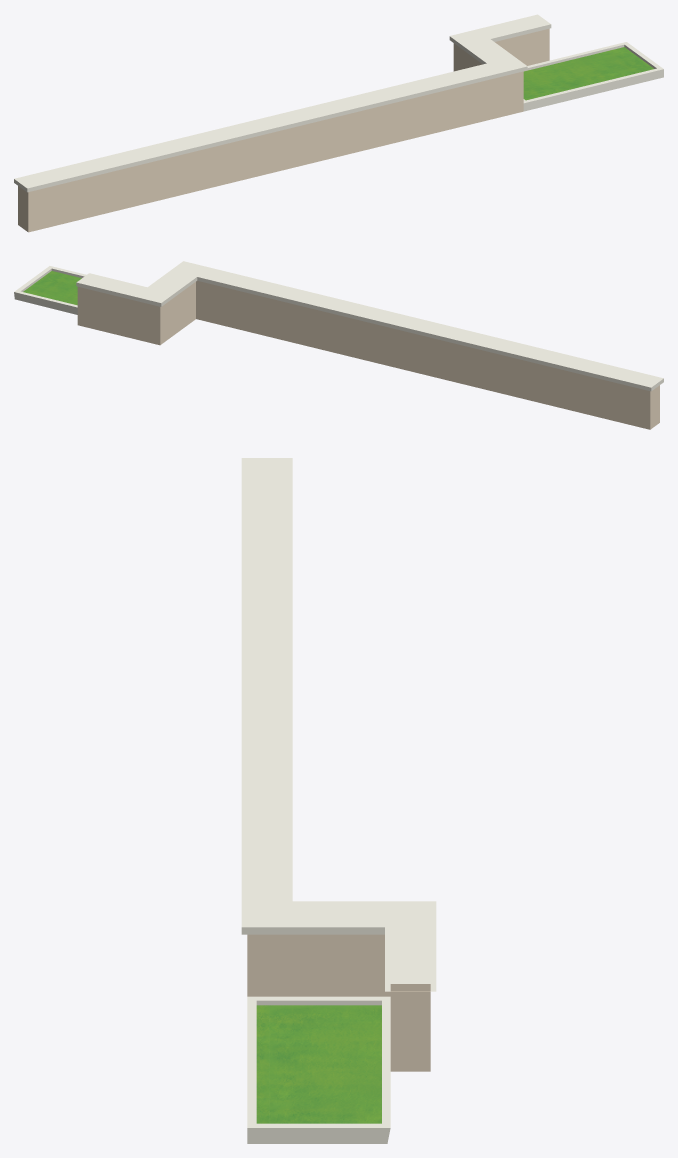
Rendered from fbx_school_fence1.fbx.
The picture shows the model from 3 angles, top to bottom: view 1: azimuth 30°, elevation 25°; view 2: azimuth 150°, elevation 25°; view 3: azimuth 270°, elevation 25°; orthographic projection. The views are drawn at different scales.
Parts seen in each view (by area): view 1: fbx_school_fence1; view 2: fbx_school_fence1; view 3: fbx_school_fence1.
Boxes of the visible parts, <box> form: fbx_school_fence1: <box>14,14,663,232</box>; fbx_school_fence1: <box>14,261,663,429</box>; fbx_school_fence1: <box>241,458,436,1143</box>.
Bounding box in the file's own units: 27.54 × 1.88 × 3.79.
